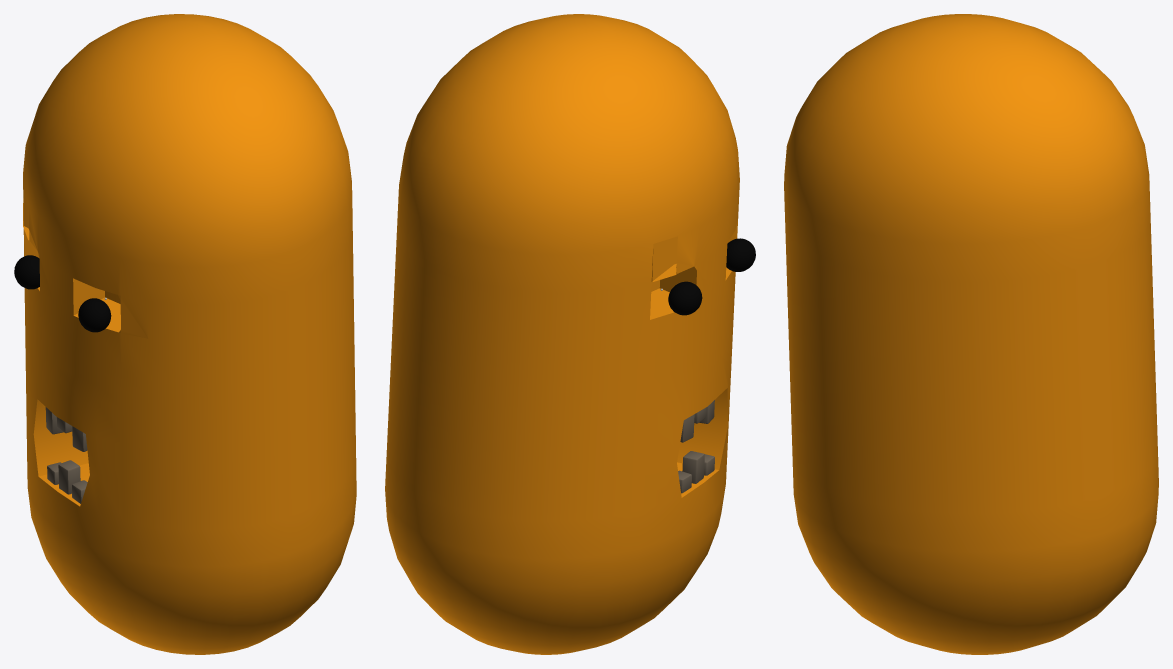
The model's file is Enemy1.obj.
The picture shows the model from 3 angles, left to right: view 1: azimuth 30°, elevation 25°; view 2: azimuth 150°, elevation 25°; view 3: azimuth 270°, elevation 25°; orthographic projection.
Visible parts, largest first — view 1: Body, EyeBall2, EyeBall1, BigTooth.2; view 2: Body, EyeBall1, EyeBall2, BigTooth.2; view 3: Body.
Boxes of the visible parts, x1=… form: Body: x1=23, y1=14, x2=356, y2=654; EyeBall2: x1=78, y1=298, x2=111, y2=332; EyeBall1: x1=14, y1=255, x2=39, y2=289; BigTooth.2: x1=58, y1=460, x2=80, y2=494; Body: x1=385, y1=14, x2=739, y2=654; EyeBall1: x1=668, y1=281, x2=702, y2=315; EyeBall2: x1=726, y1=238, x2=755, y2=271; BigTooth.2: x1=682, y1=451, x2=704, y2=483; Body: x1=784, y1=14, x2=1158, y2=654.
Size of the model in its own units: 17.42 by 33.76 by 18.9.
